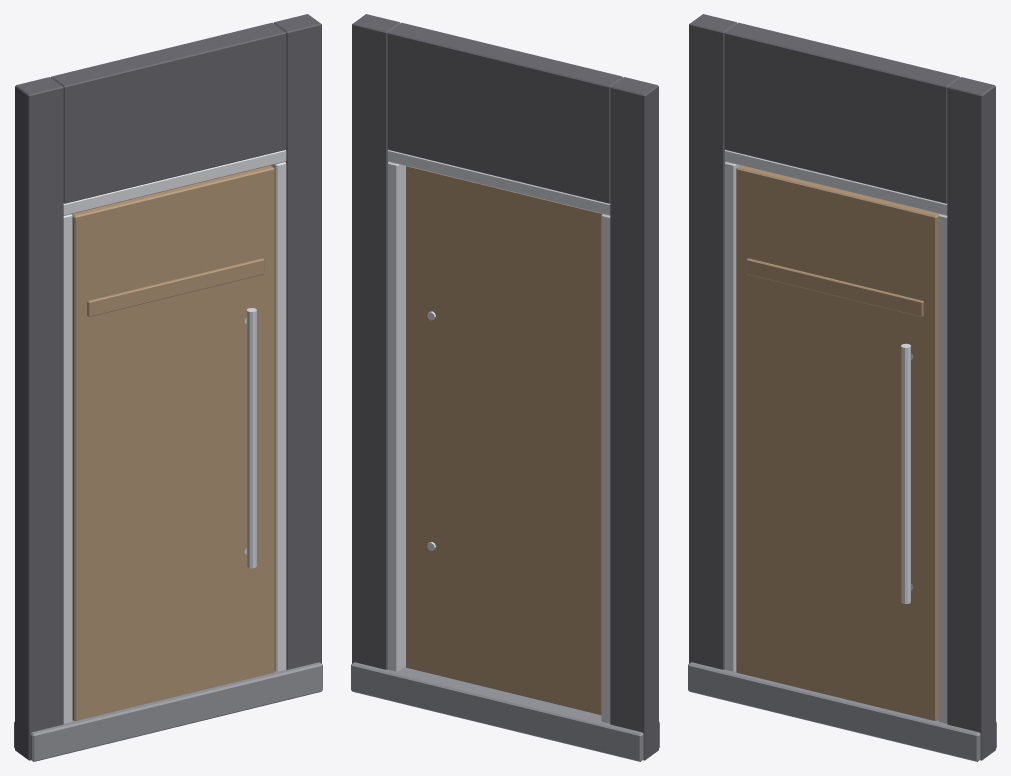
File: nightclub-and-dj-booth-entrance-door-module-8e8e9249__34132.glb
3 views of the same model, side by side, from view 1: azimuth 30°, elevation 25°; view 2: azimuth 150°, elevation 25°; view 3: azimuth 330°, elevation 25° (orthographic).
Parts seen in each view (by area): view 1: entrance-door-module, door, door/pull; view 2: entrance-door-module, door; view 3: entrance-door-module, door, door/pull.
Part boxes in pixels (x1,y1,x2,y2): entrance-door-module: [14, 14, 322, 761]; door: [71, 165, 274, 720]; door/pull: [244, 308, 256, 568]; entrance-door-module: [351, 14, 659, 761]; door: [406, 166, 602, 714]; entrance-door-module: [688, 14, 996, 761]; door: [736, 165, 939, 720]; door/pull: [901, 343, 913, 603].
Bounding box in the file's own units: 1.2 × 2.6 × 0.1571.
